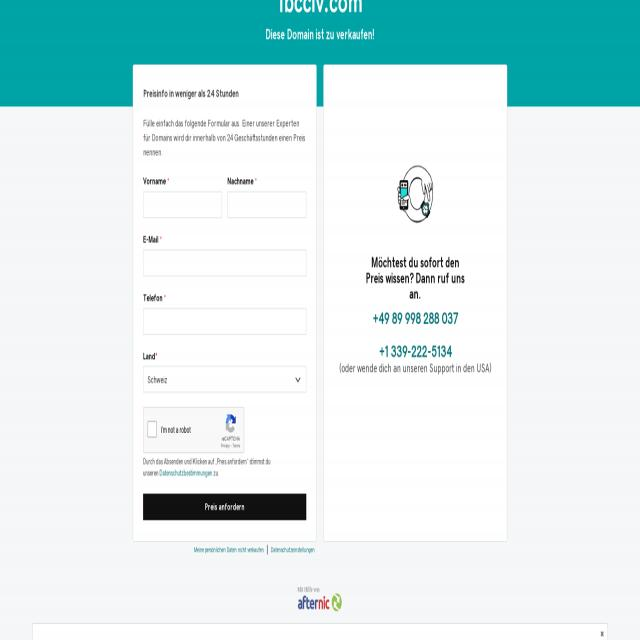button: (390, 152, 440, 238), (144, 494, 306, 520), (144, 367, 306, 392), (298, 586, 342, 612)
field: (144, 250, 306, 276), (144, 309, 306, 335), (143, 192, 222, 218), (228, 192, 306, 218), (148, 422, 156, 437)
